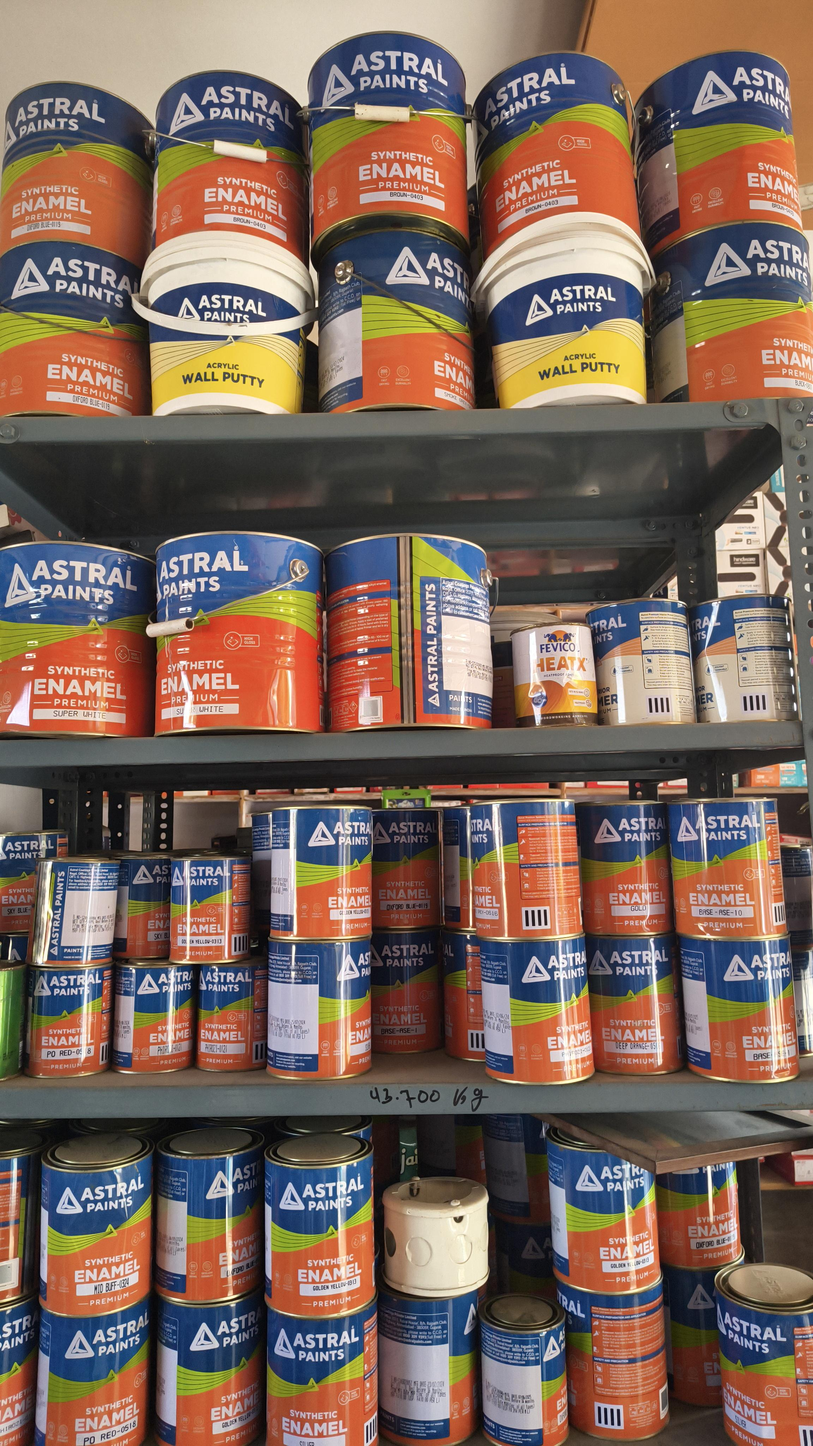Fevicol_HEATX: (512, 619, 597, 726)
